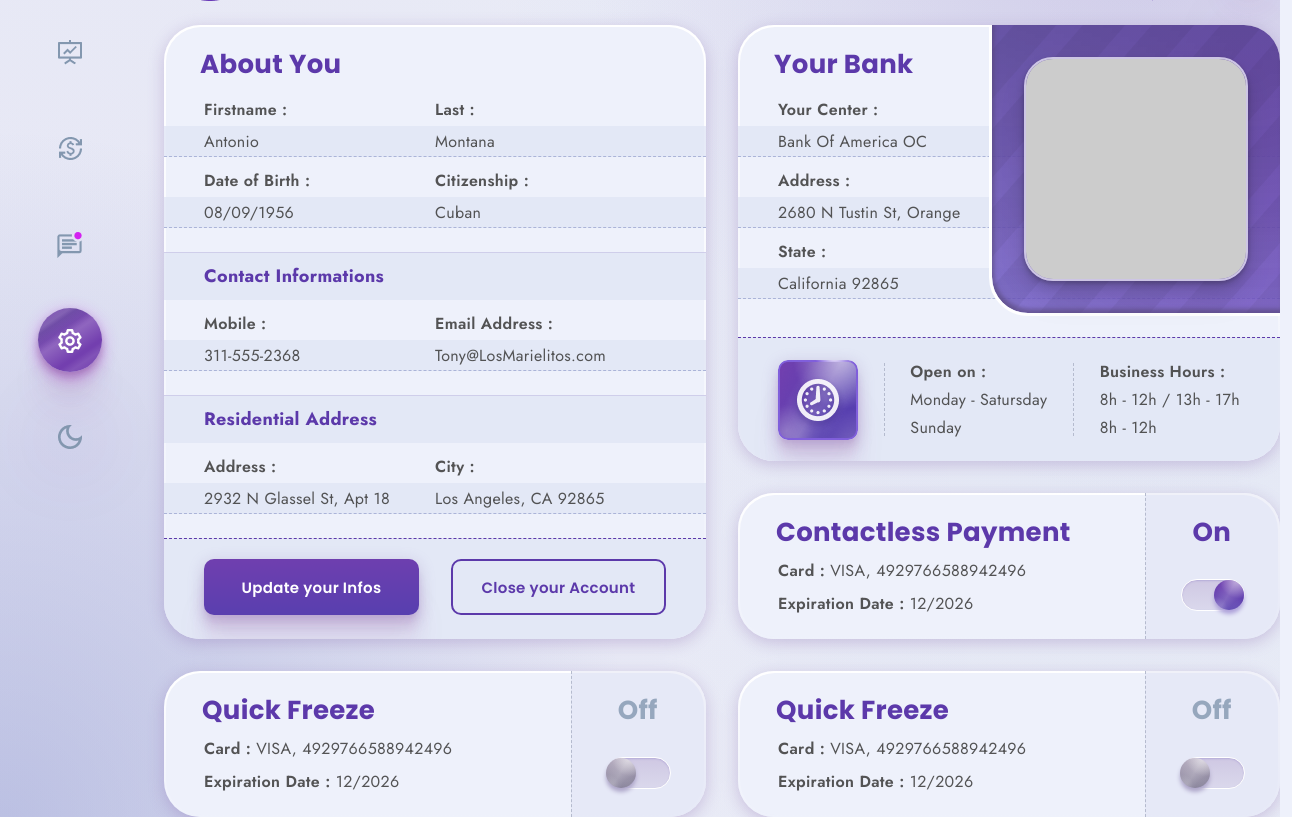
Test: Given I am on the Settings page › The quick freeze switch should be working
(page scrolled)
Check: the text with class "onOff__label" below "2932 N Glassel St, Apt 18" reads "Off", box left=618, top=692, right=658, bottom=728
Click the button with class "switchContainer" below "2932 N Glassel St, Apt 18" at (639,773), box left=607, top=757, right=671, bottom=789
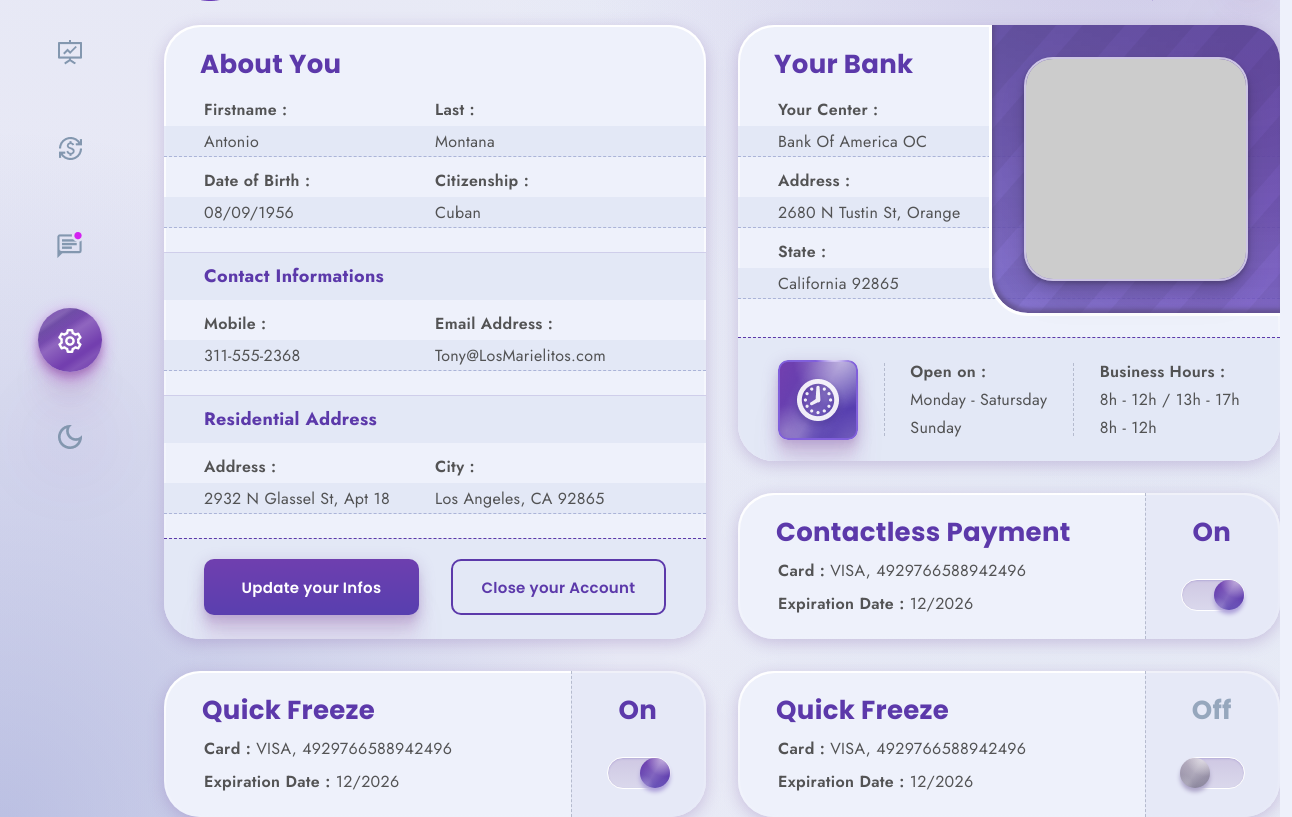
Check: the text with class "onOff__label" reads "Off", box left=1192, top=692, right=1232, bottom=728
Check: the text with class "onOff__label" below "2932 N Glassel St, Apt 18" reads "On", box left=618, top=692, right=657, bottom=728
Click the button with class "switchContainer" below "Off" at (1213,773), box left=1181, top=757, right=1245, bottom=789
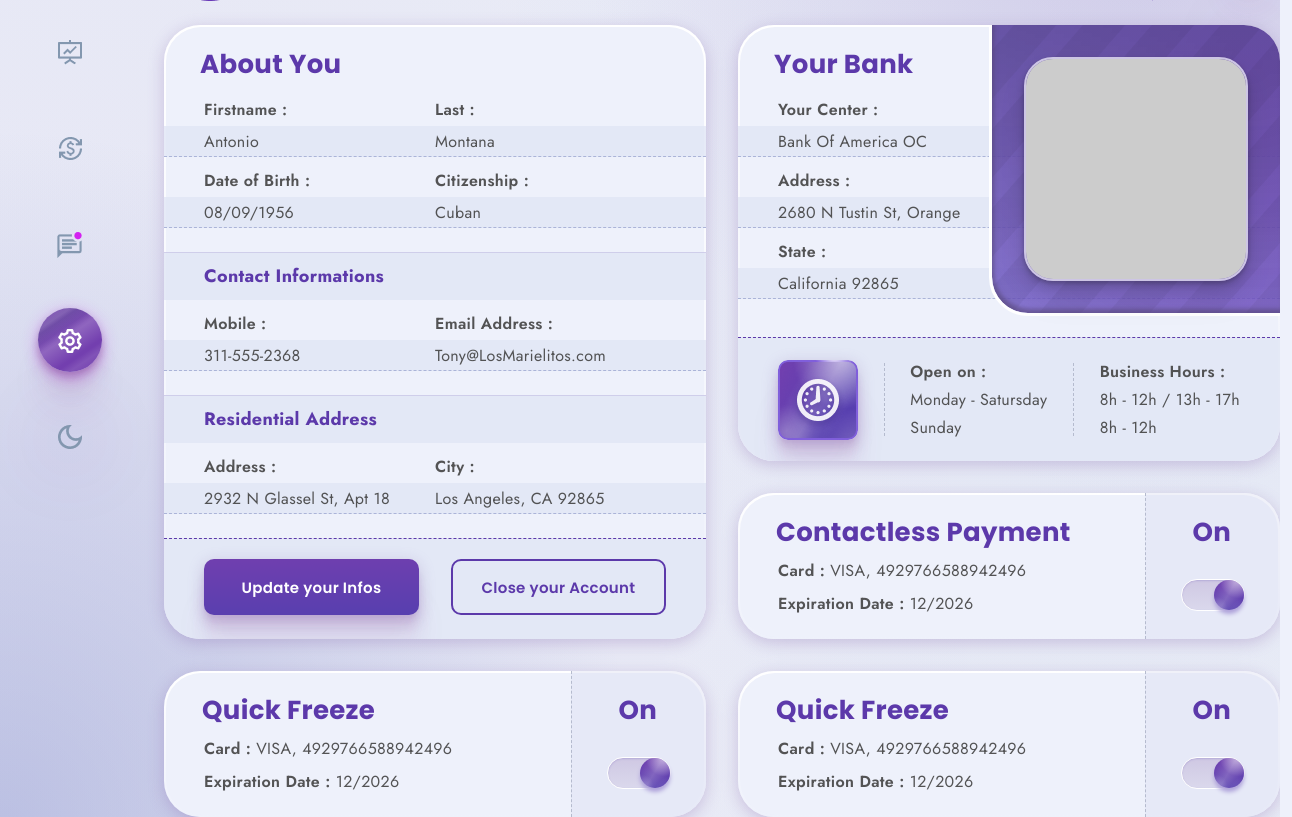
Check: the 3rd text with class "onOff__label" reads "On", box left=1192, top=692, right=1231, bottom=728
